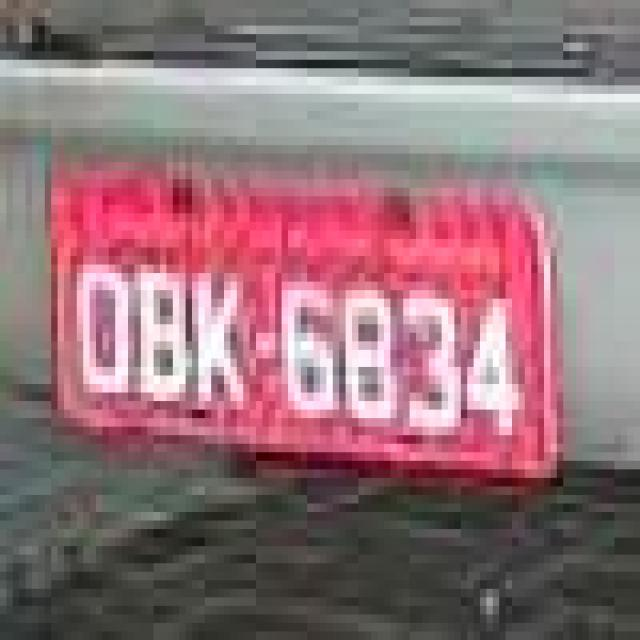3: (403, 277, 467, 447)
4: (466, 283, 529, 449)
6: (281, 270, 340, 423)
B: (339, 279, 403, 434), (190, 259, 248, 420), (136, 261, 191, 414)
O: (74, 254, 132, 404)
